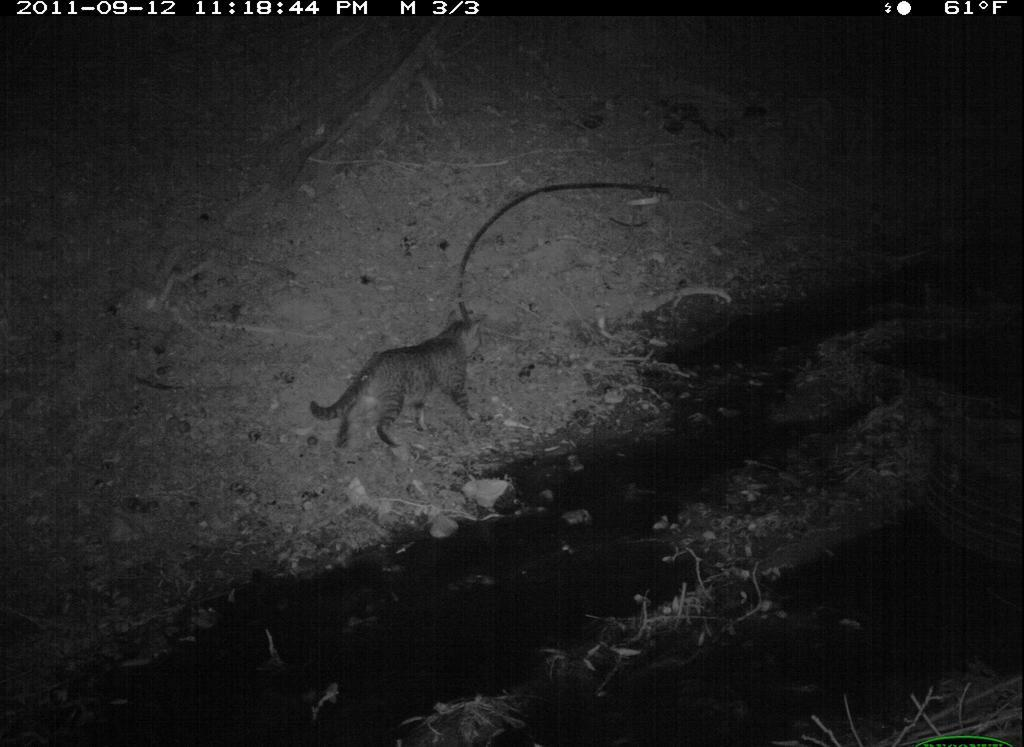cat: (306, 308, 491, 465)
